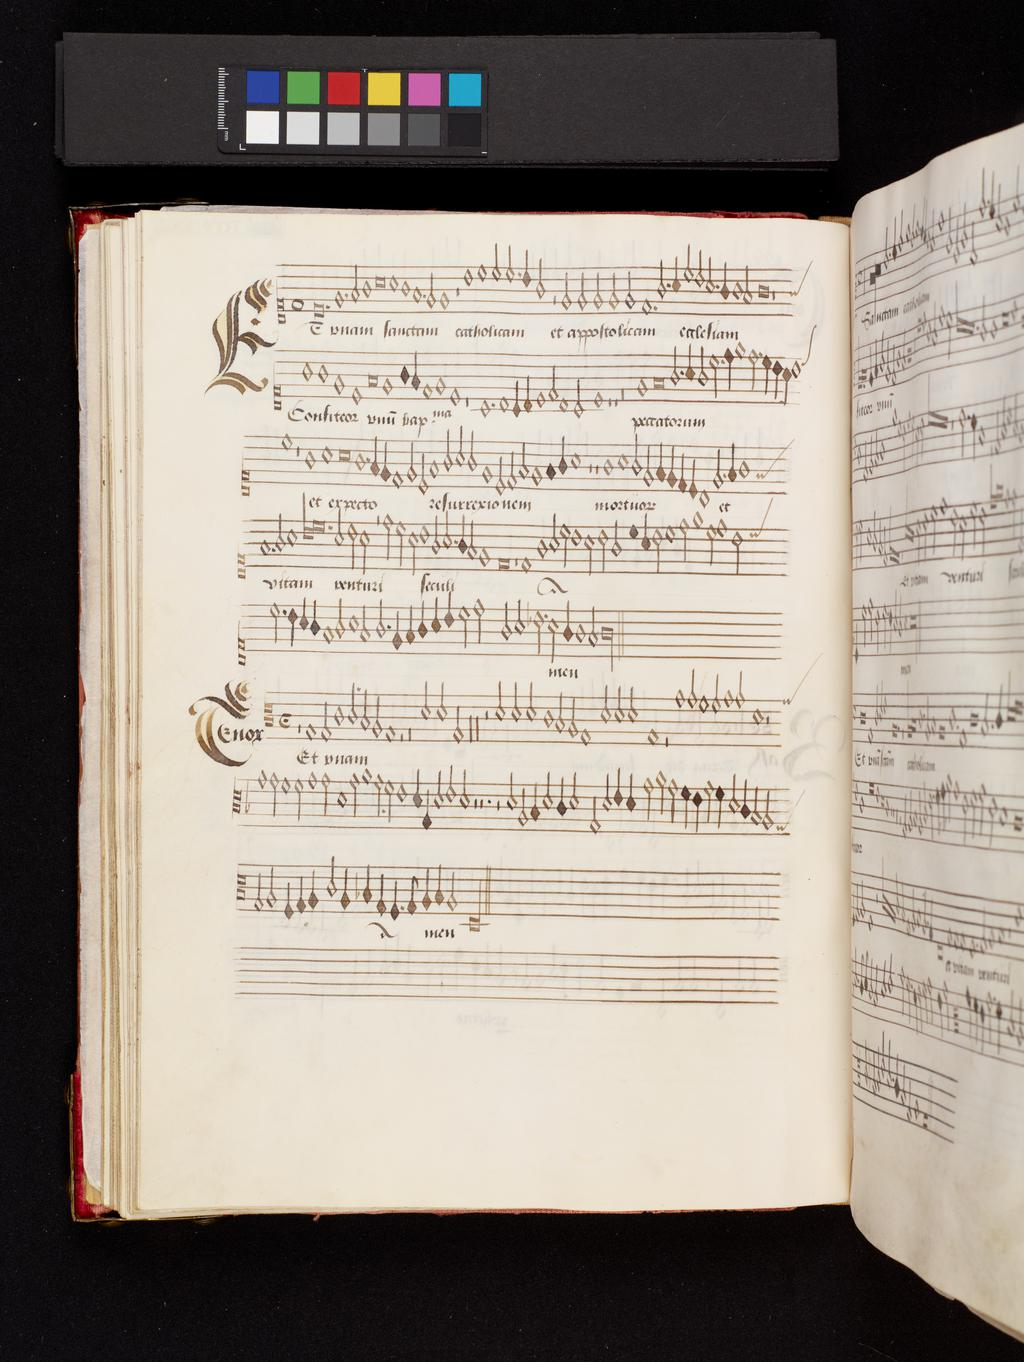breve_10: (494, 550, 512, 576)
c clef_11: (233, 542, 248, 590)
colored semibreve_4: (624, 515, 640, 543)
custos_4: (741, 502, 779, 556)
l1semibreve_5: (300, 492, 315, 548)
l2semibreve_4: (310, 516, 326, 538)
minim_3: (675, 511, 691, 566), (380, 507, 394, 562)
minim_4: (393, 512, 407, 569), (703, 517, 719, 568), (558, 514, 571, 569)
minim_5: (729, 523, 746, 579), (345, 513, 359, 572), (650, 519, 664, 577), (595, 519, 609, 574)
minim_6: (356, 521, 371, 576), (581, 526, 596, 579), (406, 524, 419, 576), (547, 506, 560, 556), (332, 505, 346, 551), (441, 510, 453, 548)
minim_7: (272, 503, 287, 556), (609, 514, 624, 563), (429, 510, 442, 561)
minim_8: (466, 512, 478, 564)
point: (323, 517, 333, 533), (447, 533, 458, 547), (268, 542, 278, 557)
semibreve rest: (372, 503, 382, 565), (512, 517, 520, 574)
semibreve_10: (520, 548, 535, 579)
semibreve_2: (691, 506, 706, 534)
semibreve_3: (714, 512, 730, 543)
semibreve_4: (662, 517, 677, 548)
semibreve_5: (569, 521, 584, 552), (418, 520, 431, 547)
semibreve_6: (286, 522, 300, 553)
semibreve_7: (534, 530, 550, 564)
semibreve_8: (257, 533, 272, 562)
semibreve_9: (477, 539, 493, 572)
semiminim_6: (639, 508, 653, 557)
semiminim_7: (458, 511, 469, 558)
